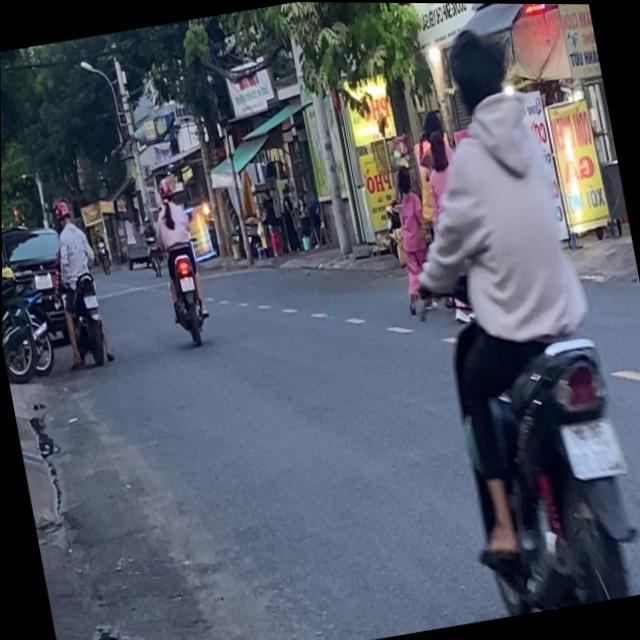helmet: (54, 197, 73, 225), (158, 174, 176, 203)
licenseplate: (369, 7, 640, 622), (41, 194, 115, 370), (145, 171, 216, 346)
motorcyclist: (442, 22, 513, 122)
nohelmet: (559, 415, 625, 480), (179, 275, 194, 291), (83, 293, 98, 308)
